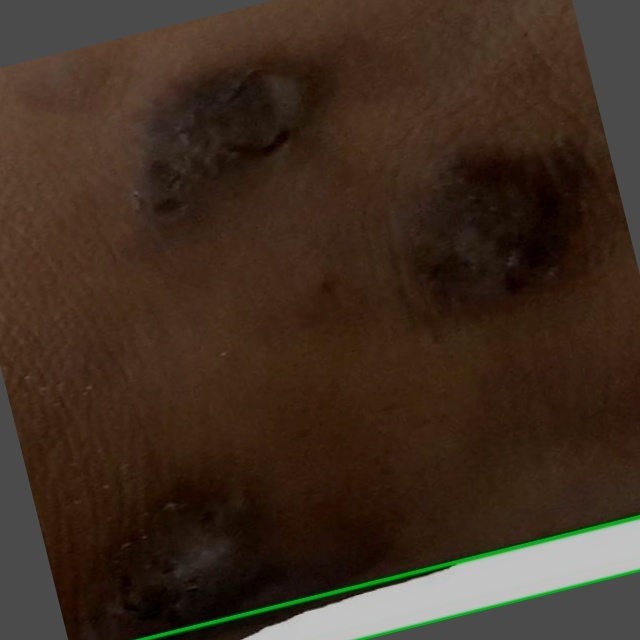Contact Dermatitis: (144, 517, 639, 639)
